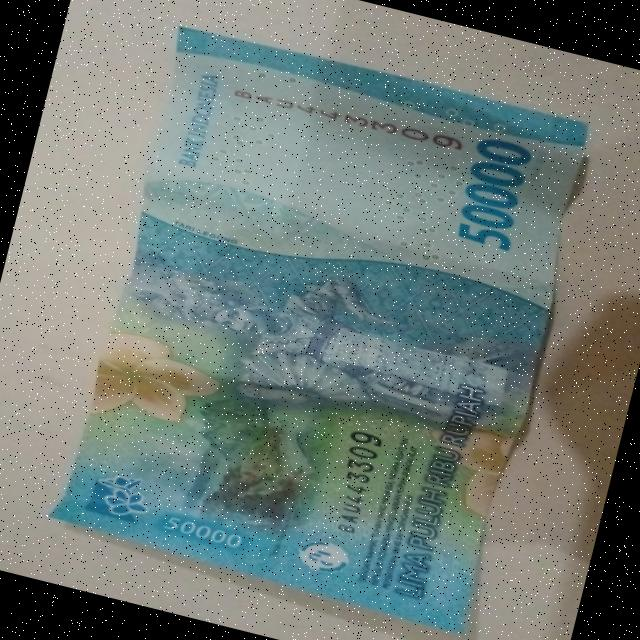50K: (37, 10, 601, 640)
